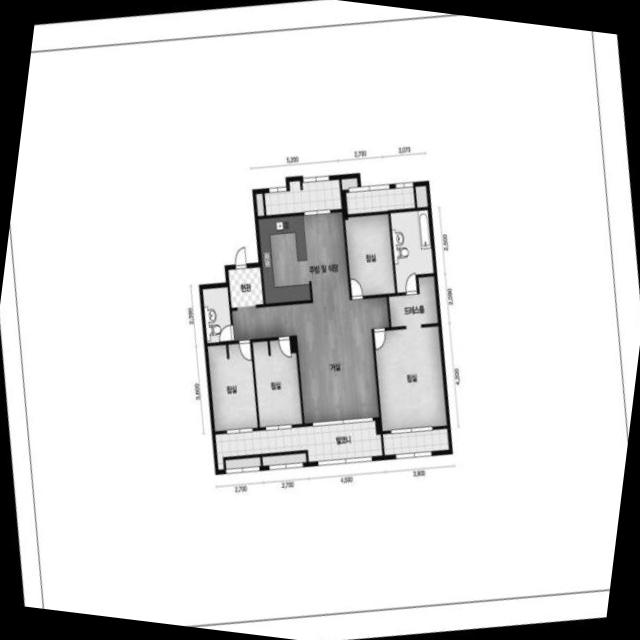background: (0, 0, 640, 640)
space_balconi: (215, 419, 381, 469), (264, 179, 341, 215), (345, 186, 414, 214), (382, 428, 448, 454)
space_bedroom: (373, 325, 446, 430), (207, 342, 257, 430), (252, 339, 301, 426), (344, 213, 394, 296)
space_dressroom: (388, 275, 437, 326)
space_front: (228, 266, 263, 309)
space_kitchen: (258, 211, 349, 303)
space_living_room: (231, 296, 388, 423)
space_other: (225, 452, 306, 468), (414, 185, 427, 207), (340, 177, 357, 189), (255, 193, 263, 215)
space_toilet: (389, 209, 433, 292), (202, 286, 232, 342)
